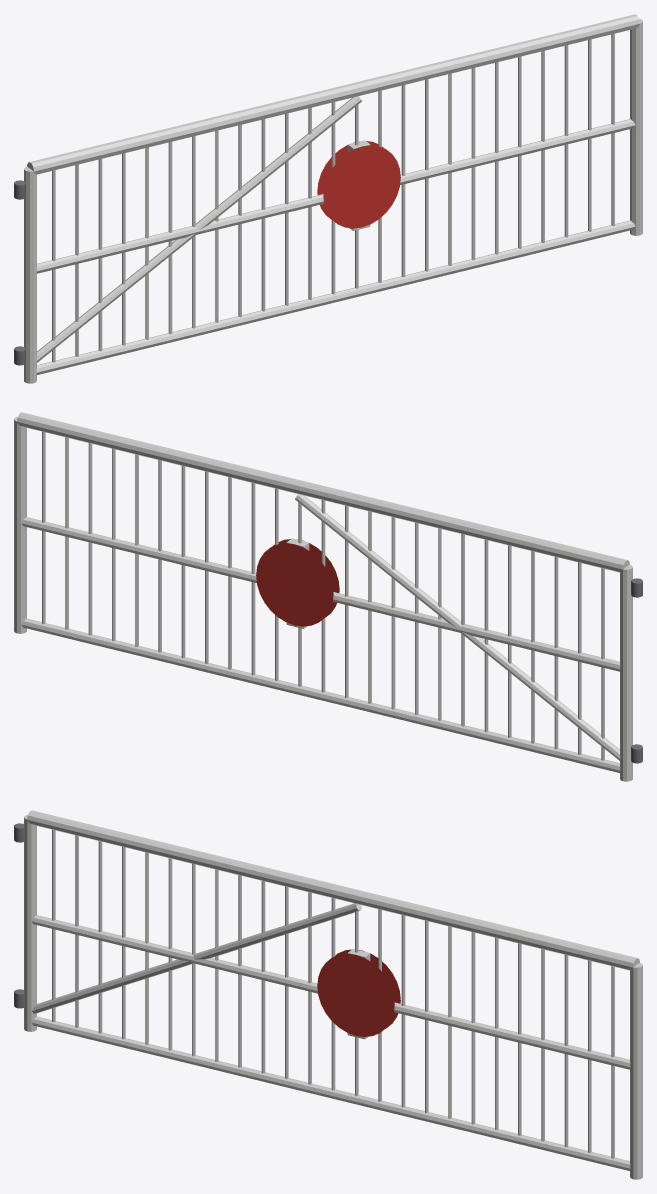
Rendered from rail.crossing.gate_35.glb.
3 renders of one model, top to bottom at view 1: azimuth 30°, elevation 25°; view 2: azimuth 150°, elevation 25°; view 3: azimuth 330°, elevation 25°, orthographic.
Parts seen in each view (by area): view 1: main__paint_eed, main__paint_c33; view 2: main__paint_eed, main__paint_c33; view 3: main__paint_eed, main__paint_c33.
Part boxes in pixels (left/top/right/bottom): main__paint_eed: left=24, top=14, right=642, bottom=383; main__paint_c33: left=317, top=141, right=400, bottom=228; main__paint_eed: left=14, top=412, right=632, bottom=781; main__paint_c33: left=256, top=539, right=339, bottom=626; main__paint_eed: left=24, top=810, right=642, bottom=1179; main__paint_c33: left=317, top=949, right=400, bottom=1036.
Size of the model in its own units: 3.56 by 1.18 by 0.07.
